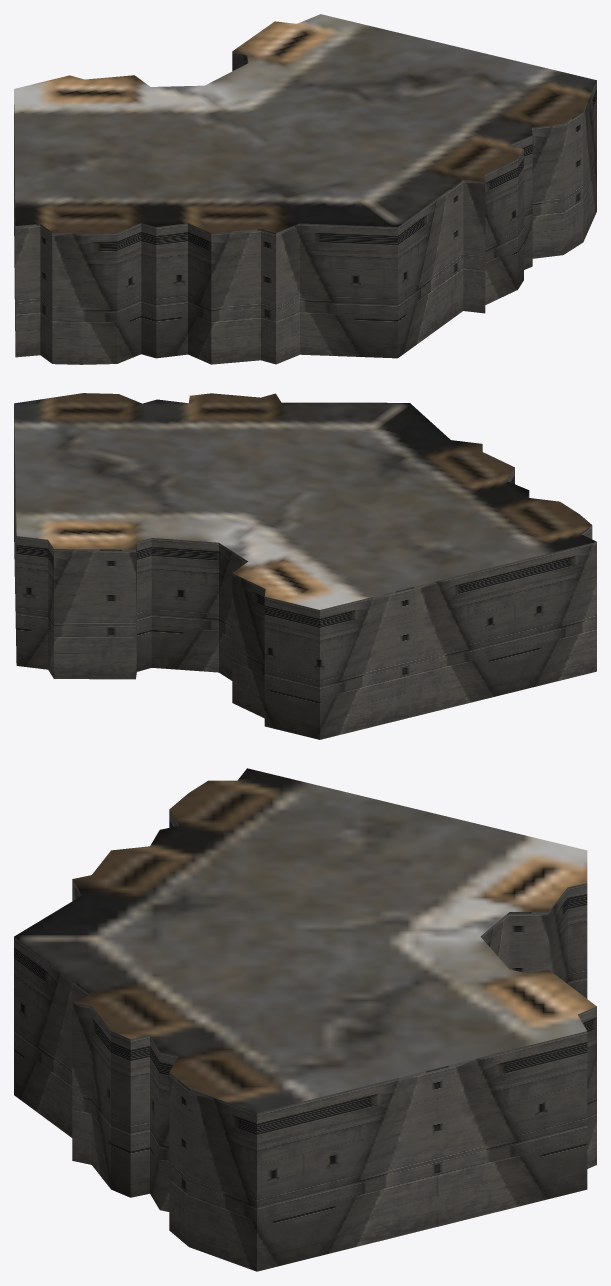
Rendered from fortress_light_a_34.glb.
The picture shows the model from 3 angles, top to bottom: view 1: azimuth 30°, elevation 25°; view 2: azimuth 150°, elevation 25°; view 3: azimuth 270°, elevation 25°; orthographic projection. The views are drawn at different scales.
Parts seen in each view (by area): view 1: buildings/saxarba/fortress_light/fortress_light_a_34; view 2: buildings/saxarba/fortress_light/fortress_light_a_34; view 3: buildings/saxarba/fortress_light/fortress_light_a_34.
Part boxes in pixels (bbox=[...]): buildings/saxarba/fortress_light/fortress_light_a_34: bbox=[14, 14, 596, 364]; buildings/saxarba/fortress_light/fortress_light_a_34: bbox=[14, 393, 596, 739]; buildings/saxarba/fortress_light/fortress_light_a_34: bbox=[14, 768, 596, 1271].
Bounding box in the file's own units: 84 × 18 × 60.
